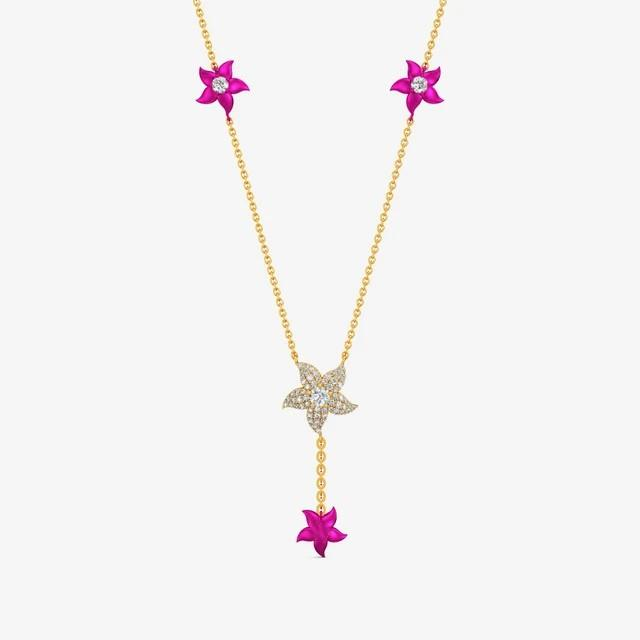missing gem: (314, 523, 327, 536)
